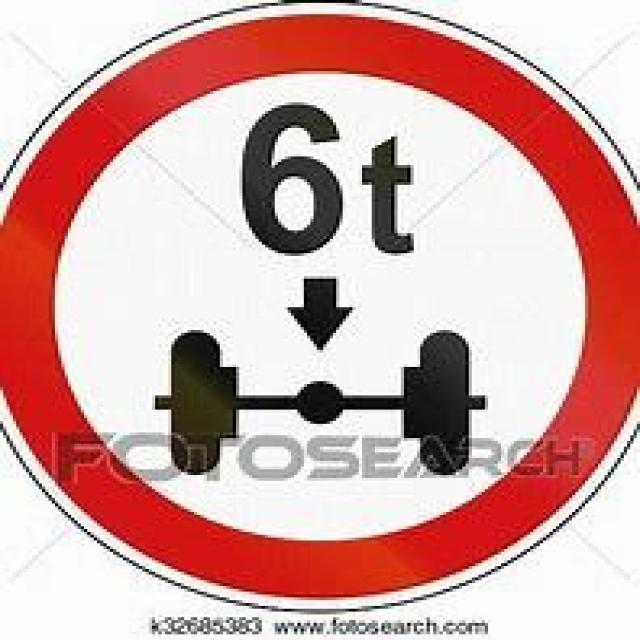axle load limit: (11, 17, 627, 610)
